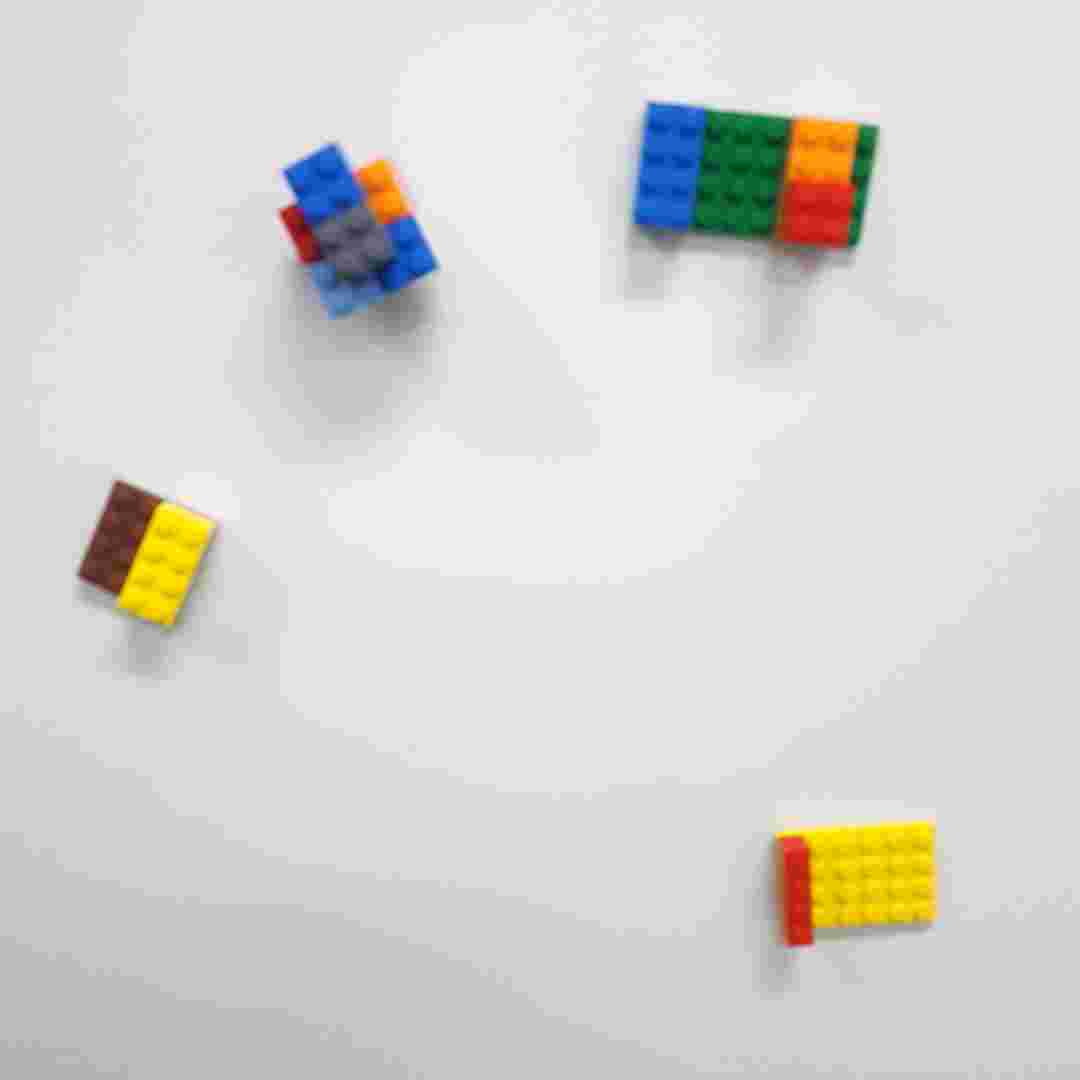LEGO: (621, 96, 881, 258), (271, 140, 445, 325), (768, 809, 947, 948), (75, 474, 227, 634)
